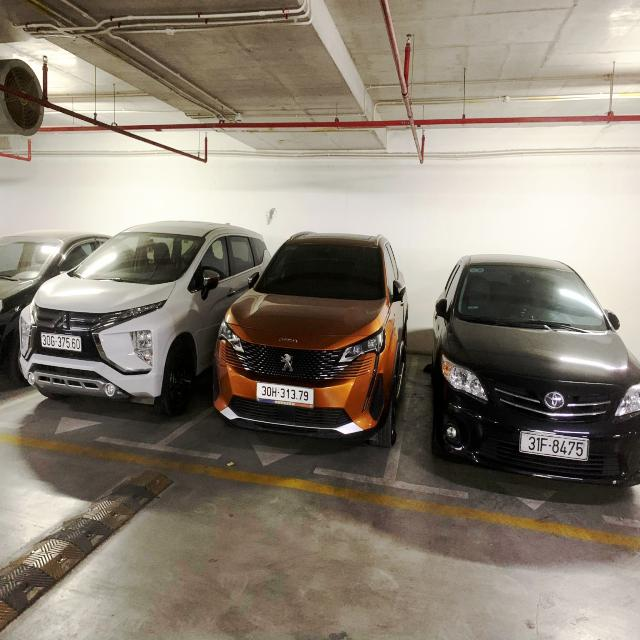license_plate: (520, 431, 591, 462), (256, 382, 316, 411), (41, 332, 84, 354)
